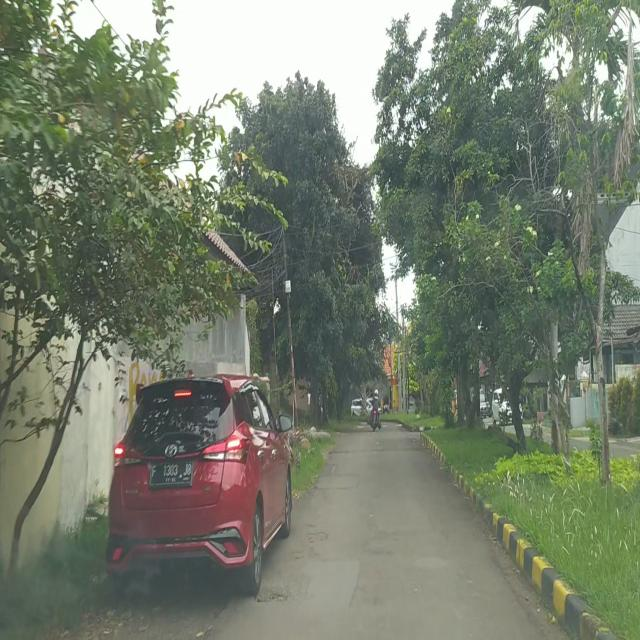Drain Hole: (252, 572, 308, 604)
